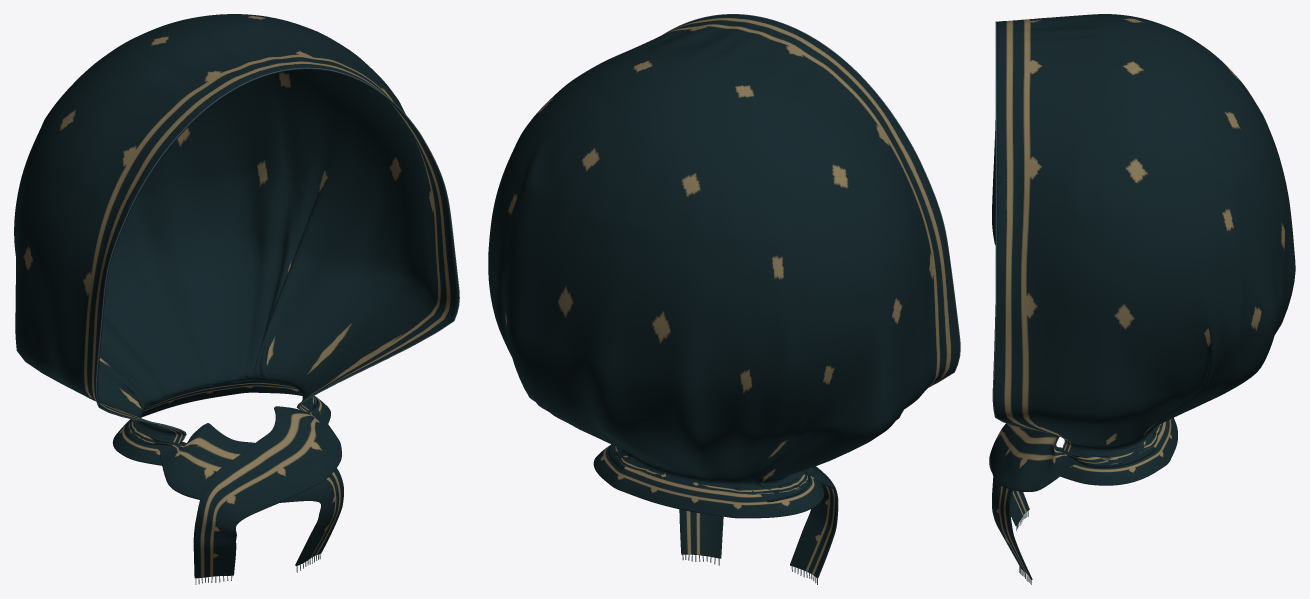
The model's file is Feminine-strappy-pashmina237-headgear.glb.
The picture shows the model from 3 angles, left to right: view 1: azimuth 30°, elevation 25°; view 2: azimuth 150°, elevation 25°; view 3: azimuth 270°, elevation 25°; orthographic projection. The views are drawn at different scales.
Visible parts, largest first — view 1: 226 headgear / Headwear / continuous woven pashmina237, 226 headgear / Headwear / face edge237; view 2: 226 headgear / Headwear / continuous woven pashmina237, 226 headgear / Headwear / face edge237; view 3: 226 headgear / Headwear / continuous woven pashmina237, 226 headgear / Headwear / face edge237.
Part boxes in pixels (<box>): 226 headgear / Headwear / continuous woven pashmina237: <box>14,14,458,578</box>; 226 headgear / Headwear / face edge237: <box>95,67,459,441</box>; 226 headgear / Headwear / continuous woven pashmina237: <box>488,14,959,577</box>; 226 headgear / Headwear / face edge237: <box>663,14,960,387</box>; 226 headgear / Headwear / continuous woven pashmina237: <box>989,14,1295,579</box>; 226 headgear / Headwear / face edge237: <box>992,21,1065,447</box>.
Size of the model in its own units: 1.02 by 1.35 by 0.7183.
Materials: 3 (1 with a texture image).
